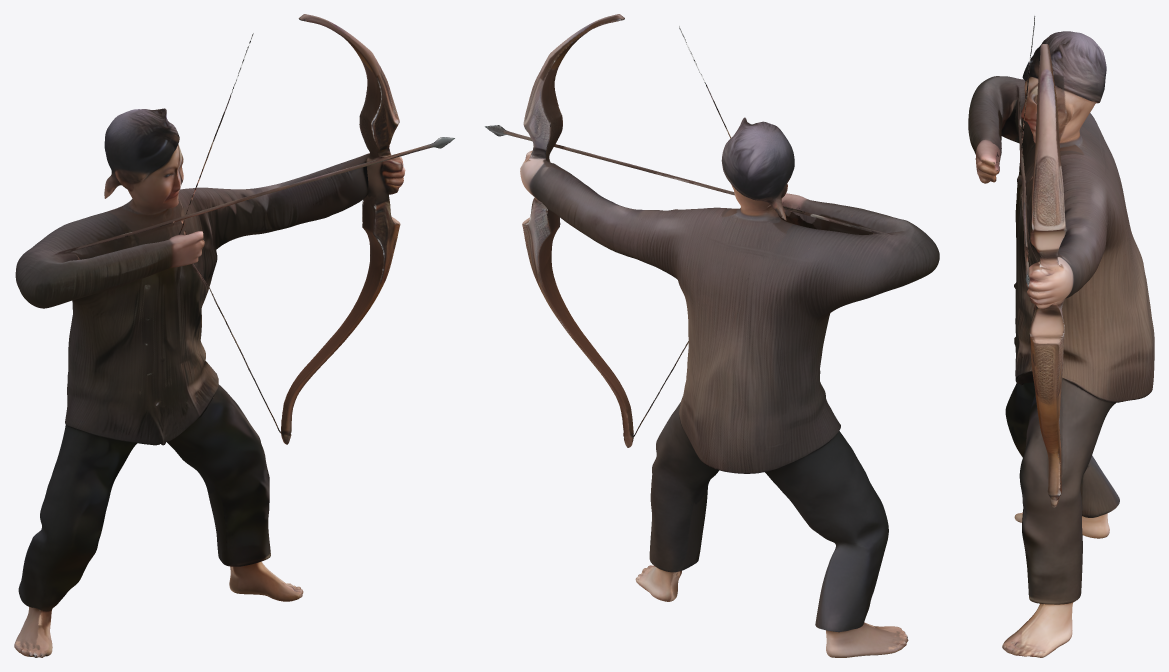
File: base_basic_shaded.glb
3 views of the same model, side by side, from view 1: azimuth 30°, elevation 25°; view 2: azimuth 150°, elevation 25°; view 3: azimuth 270°, elevation 25° (orthographic). The views are drawn at different scales.
Visible parts, largest first — view 1: model; view 2: model; view 3: model.
Part boxes in pixels (box(x1,y1,x2,y2)): model: box(14, 14, 455, 657); model: box(484, 14, 939, 657); model: box(968, 15, 1154, 657).
Size of the model in its own units: 1.55 by 1.9 by 0.5144.
1 material, 1 textured.
